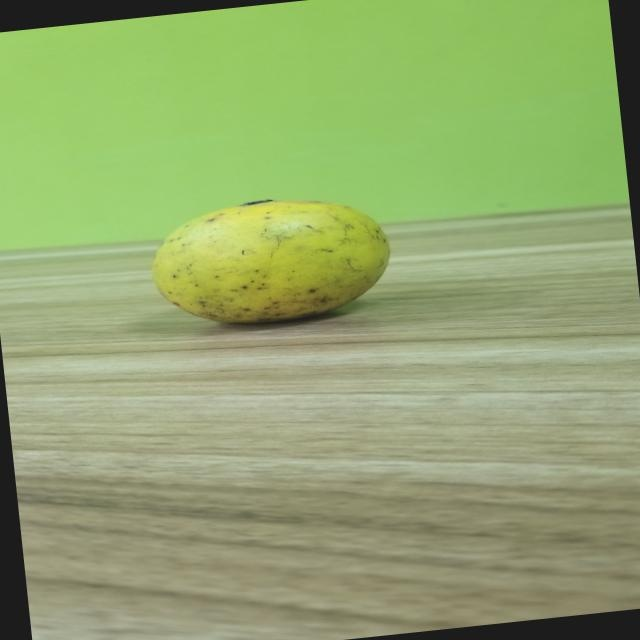agrume: (105, 184, 427, 348)
